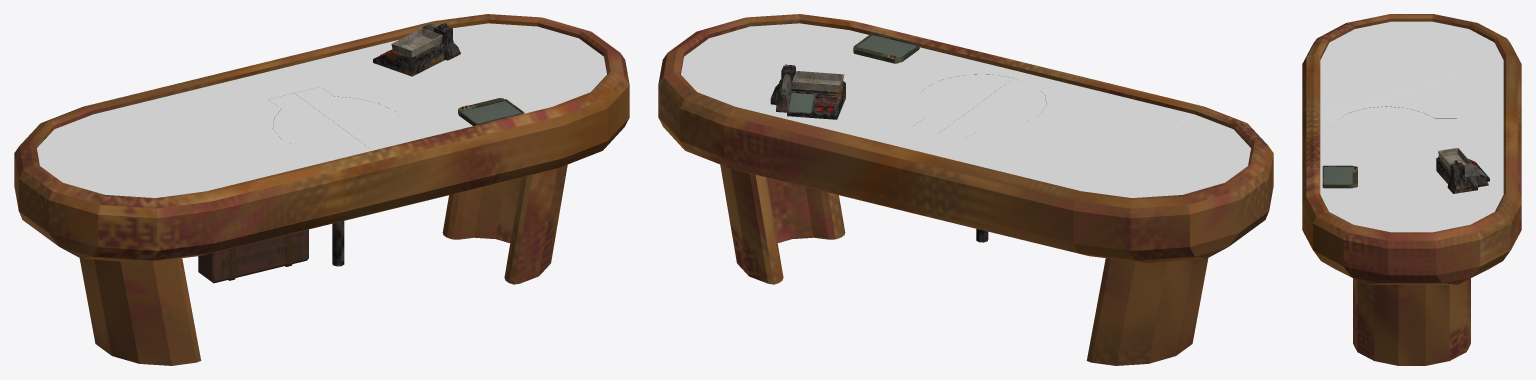
File: Ruletttable_Animation.fbx
The picture shows the model from 3 angles, left to right: view 1: azimuth 30°, elevation 25°; view 2: azimuth 150°, elevation 25°; view 3: azimuth 270°, elevation 25°; orthographic projection. The views are drawn at different scales.
Visible parts, largest first — view 1: Table.Base, Table.Gameplay, Case_Base_Top, HatchL, HatchR, Shop, ChipcounterBase, EffectDisplay, ChipcounterBowl, EffectDisplay.Background, WheelBase; view 2: Table.Base, Table.Gameplay, HatchL, HatchR, Shop, ChipcounterBase, EffectDisplay, ChipcounterBowl, EffectDisplay.Background; view 3: Table.Base, Table.Gameplay, HatchL, HatchR, Shop, ChipcounterBase, EffectDisplay, EffectDisplay.Background, ChipcounterBowl.
Part boxes in pixels (x1,y1,x2,y2): Table.Base: (14,14,629,365); Table.Gameplay: (93,40,545,191); Case_Base_Top: (205,229,308,283); HatchL: (294,86,402,148); HatchR: (268,93,369,152); Shop: (186,153,317,191); ChipcounterBase: (373,23,460,76); EffectDisplay: (458,98,524,125); ChipcounterBowl: (391,28,442,57); EffectDisplay.Background: (461,101,521,123); WheelBase: (332,221,344,266); Table.Base: (658,14,1273,365); Table.Gameplay: (742,30,1194,191); HatchL: (912,74,1013,133); HatchR: (939,78,1046,139); Shop: (1057,86,1191,128); ChipcounterBase: (770,64,845,119); EffectDisplay: (853,33,919,63); ChipcounterBowl: (792,71,844,92); EffectDisplay.Background: (856,35,916,57); Table.Base: (1302,14,1521,365); Table.Gameplay: (1320,60,1503,197); HatchL: (1333,129,1457,151); HatchR: (1333,106,1456,128); Shop: (1322,60,1353,106); ChipcounterBase: (1436,156,1489,193); EffectDisplay: (1322,165,1357,188); EffectDisplay.Background: (1324,167,1352,184); ChipcounterBowl: (1438,148,1471,169).
Bounding box in the file's own units: 297 × 106 × 120.
